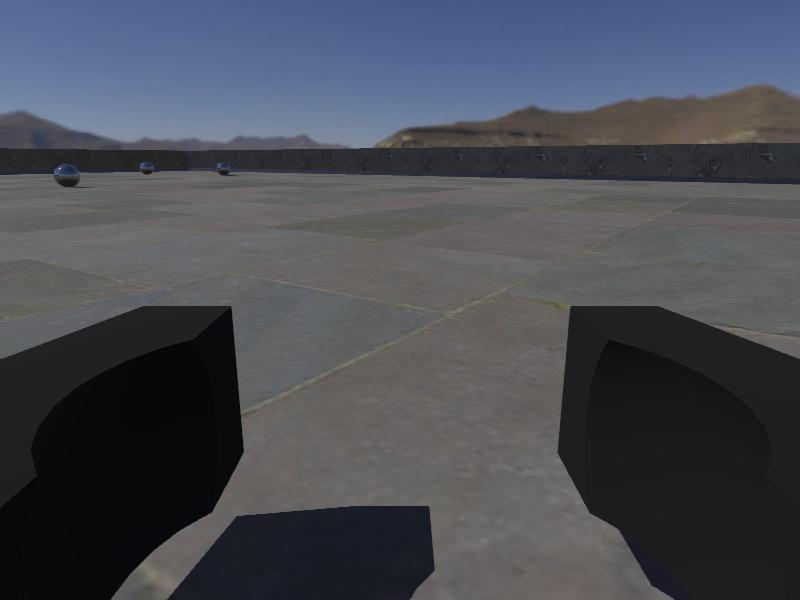steel ball: (52, 162, 82, 188), (139, 159, 156, 176), (216, 161, 232, 176)
